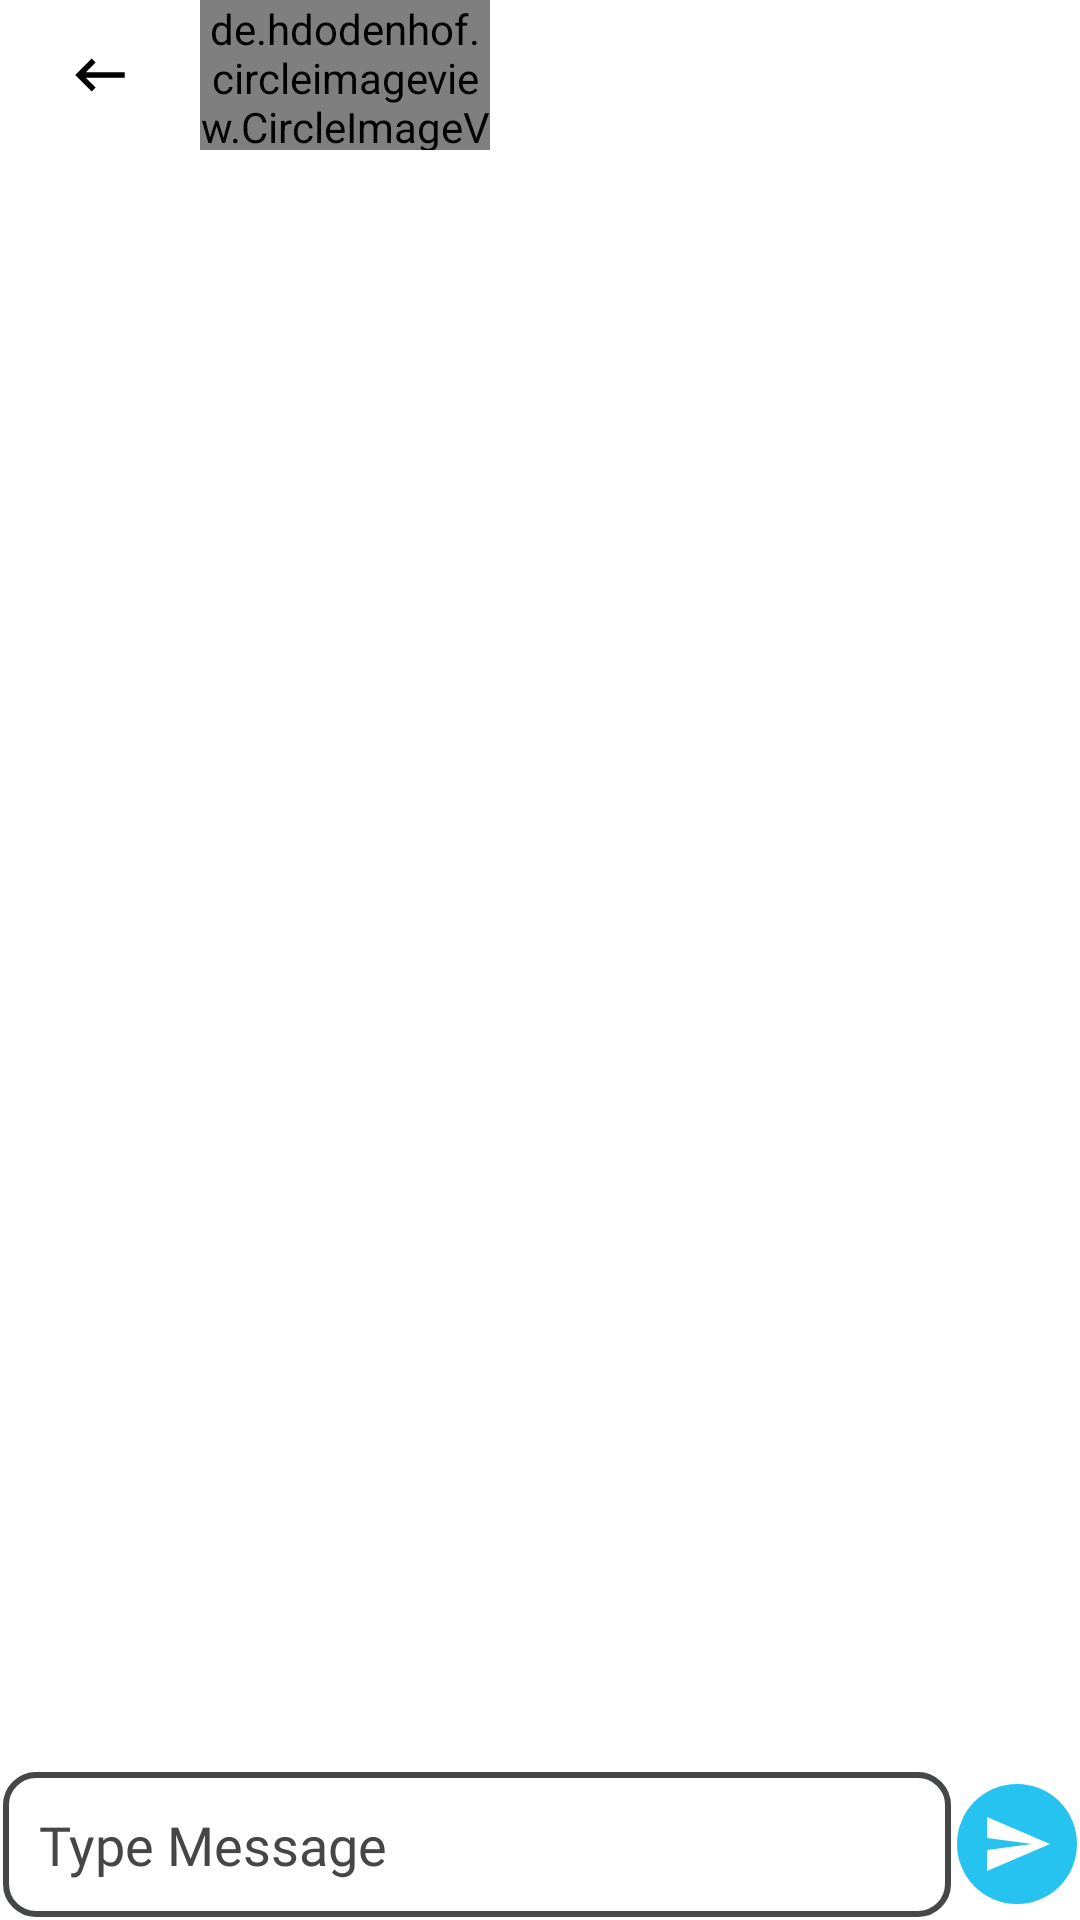

Where to tap for icons on this 1080 × 1920 app screen, as (x,y):
back: (100,75)
send: (1017,1844)
